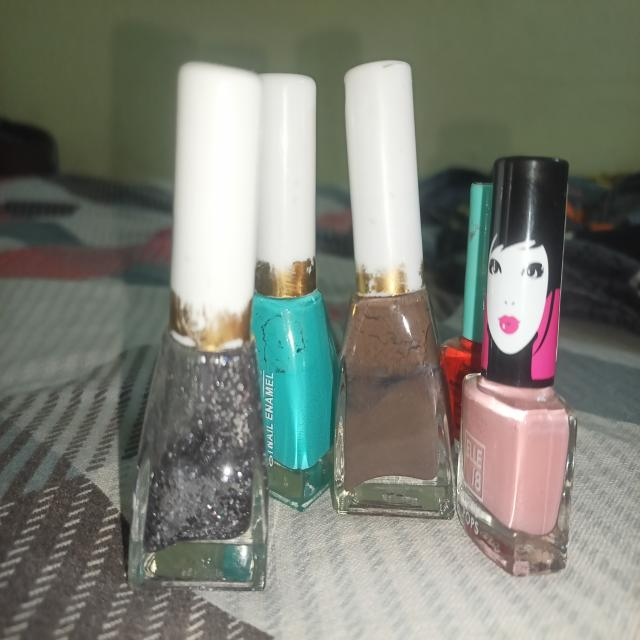glass: (112, 52, 272, 604), (317, 51, 465, 532), (439, 141, 591, 604), (258, 65, 332, 523)
